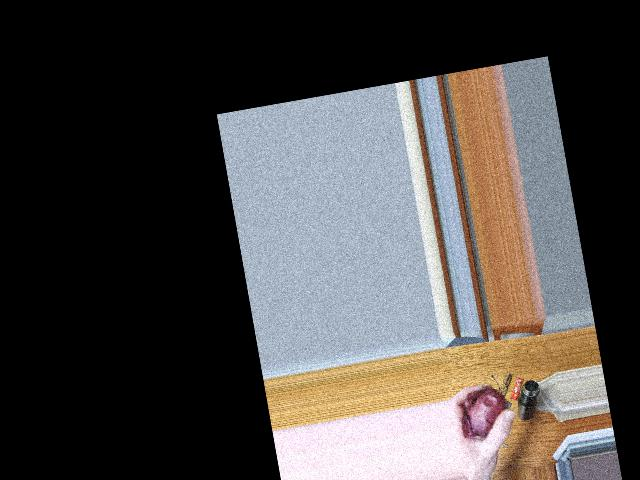onion: (461, 386, 512, 440)
